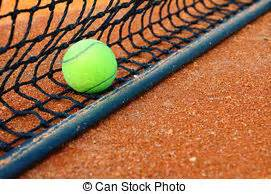tennis_ball: (62, 38, 117, 95)
